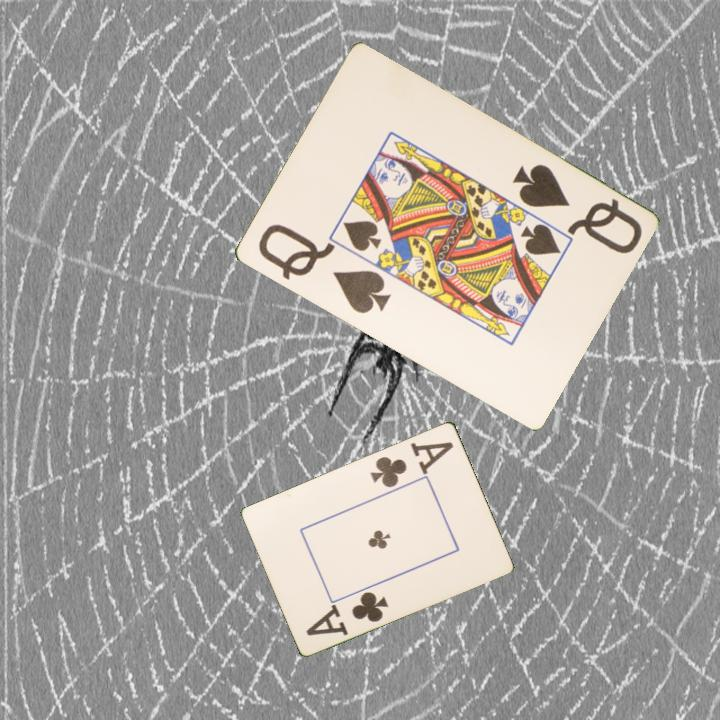Ac: (367, 438, 457, 490), (303, 588, 392, 638)
Qs: (254, 220, 393, 317), (508, 160, 645, 257)
